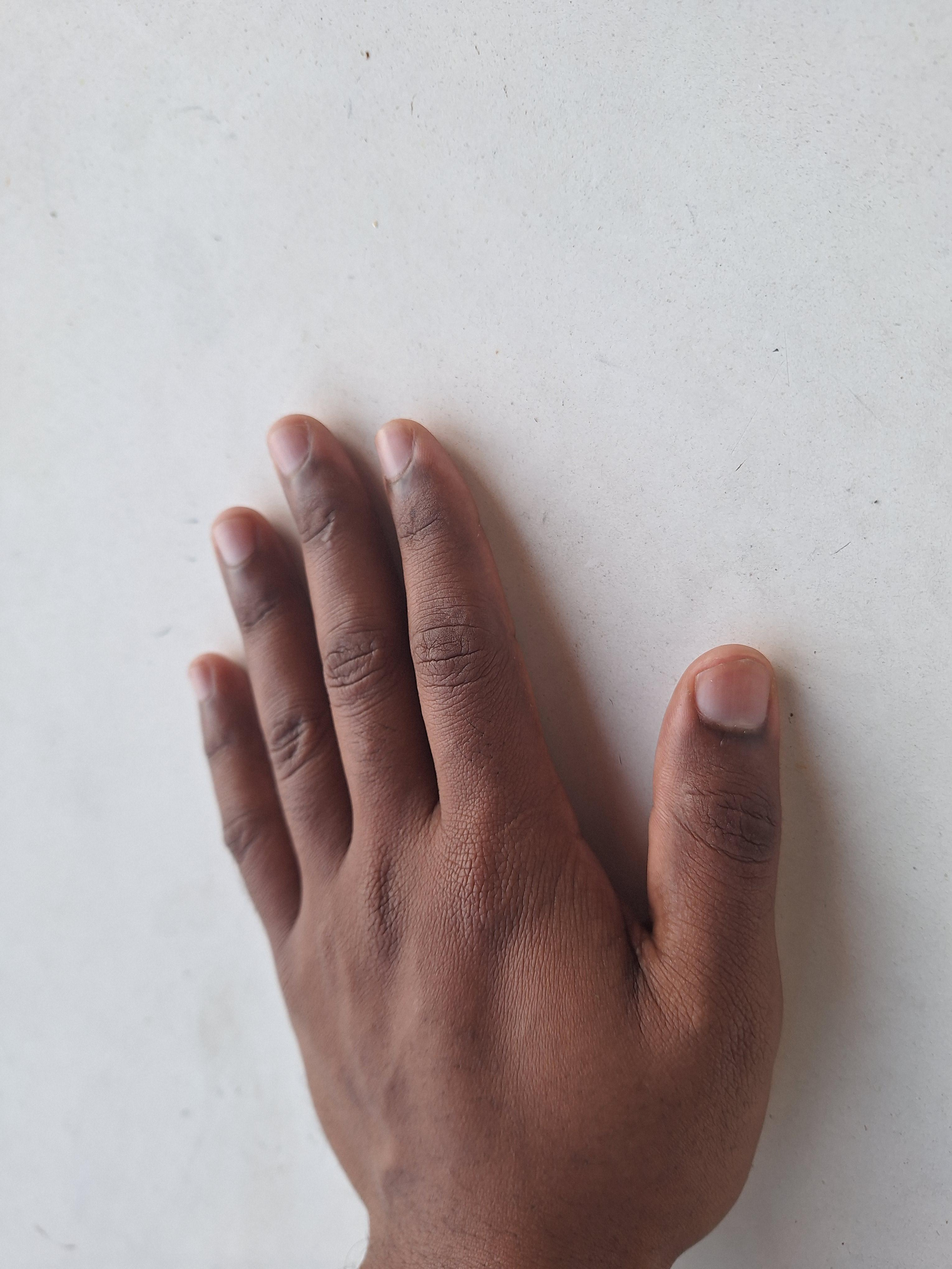Fingernail: (695, 659, 770, 727), (375, 424, 413, 479), (269, 425, 310, 475), (214, 519, 255, 566), (188, 663, 213, 702)
